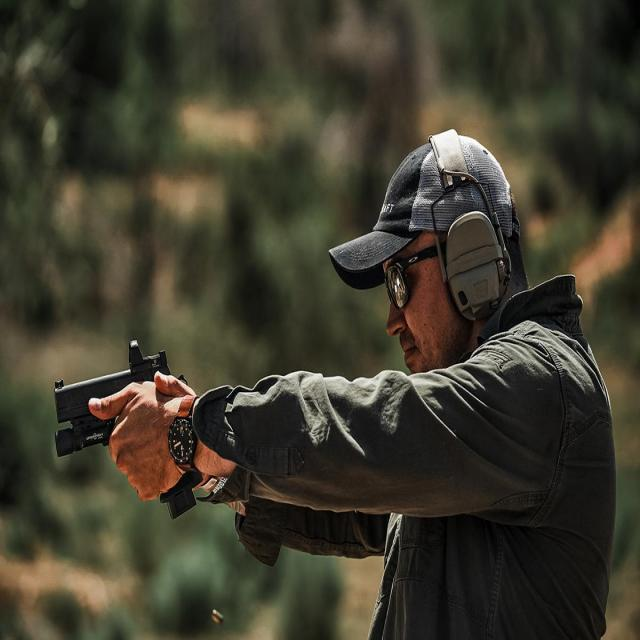pistol: (55, 340, 168, 454)
